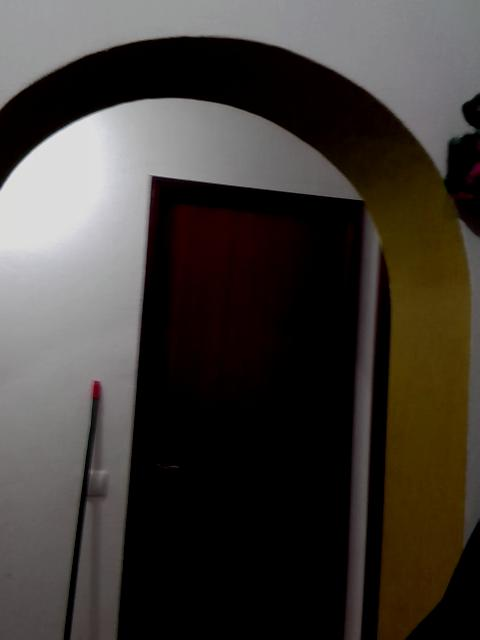closed_door: (115, 175, 365, 638)
